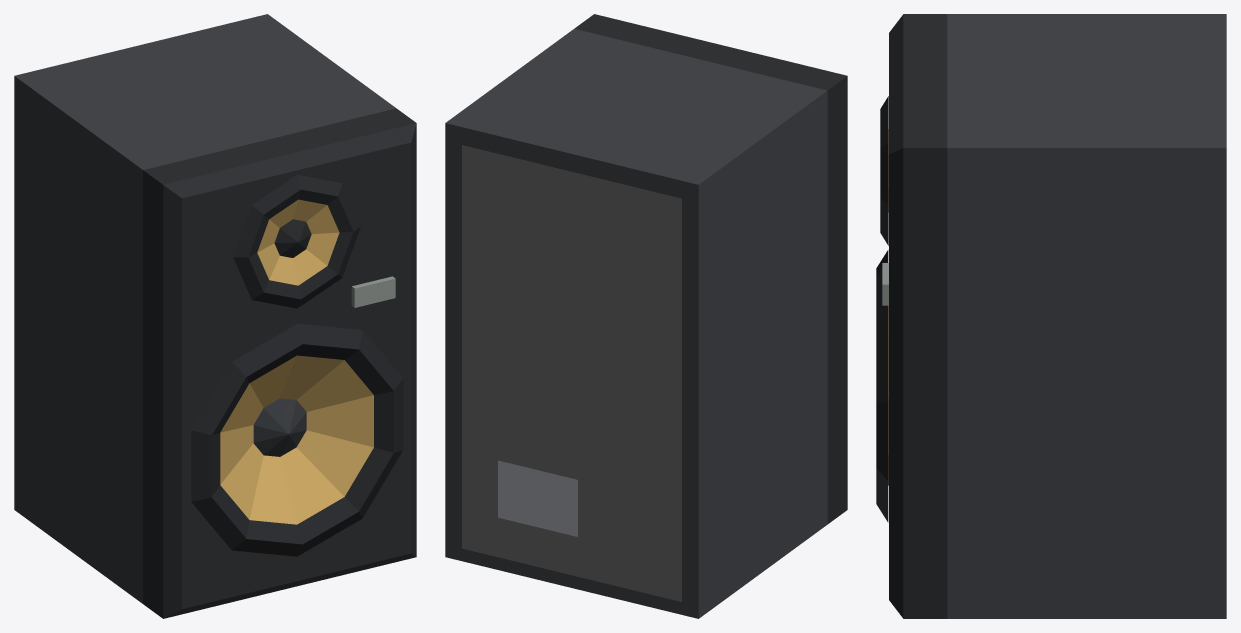
Rendered from Speaker.fbx.
The picture shows the model from 3 angles, left to right: view 1: azimuth 30°, elevation 25°; view 2: azimuth 150°, elevation 25°; view 3: azimuth 270°, elevation 25°; orthographic projection. The views are drawn at different scales.
Parts seen in each view (by area): view 1: Speaker; view 2: Speaker; view 3: Speaker.
Boxes of the visible parts, x1=… form: Speaker: x1=14, y1=14, x2=416, y2=618; Speaker: x1=445, y1=14, x2=847, y2=618; Speaker: x1=876, y1=14, x2=1226, y2=618.
Bounding box in the file's own units: 39.02 × 63.88 × 43.09.
1 material, 1 textured.
